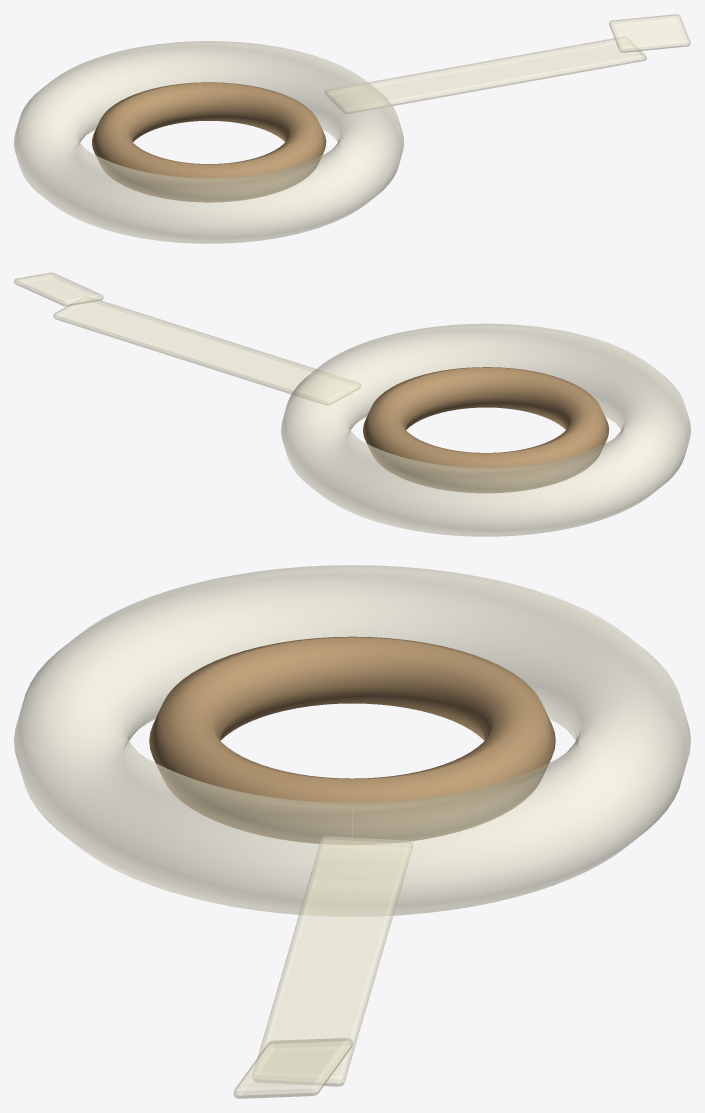
The model's file is tape_roll.glb.
3 views of the same model, one above another, from view 1: azimuth 30°, elevation 25°; view 2: azimuth 150°, elevation 25°; view 3: azimuth 270°, elevation 25° (orthographic). The views are drawn at different scales.
Parts seen in each view (by area): view 1: Tape_Roll_Body, Tape_Roll_Cardboard_Core, Tape_Roll_Loose_End, Tape_Roll_Loose_End_Curl; view 2: Tape_Roll_Body, Tape_Roll_Cardboard_Core, Tape_Roll_Loose_End, Tape_Roll_Loose_End_Curl; view 3: Tape_Roll_Body, Tape_Roll_Cardboard_Core, Tape_Roll_Loose_End, Tape_Roll_Loose_End_Curl.
Boxes of the visible parts, x1,y1,x2,y2 form: Tape_Roll_Body: [14, 41, 403, 243]; Tape_Roll_Cardboard_Core: [92, 82, 326, 202]; Tape_Roll_Loose_End: [325, 36, 646, 113]; Tape_Roll_Loose_End_Curl: [609, 14, 690, 52]; Tape_Roll_Body: [281, 323, 690, 536]; Tape_Roll_Cardboard_Core: [363, 367, 608, 492]; Tape_Roll_Loose_End: [53, 296, 360, 405]; Tape_Roll_Loose_End_Curl: [14, 272, 103, 306]; Tape_Roll_Body: [14, 565, 690, 916]; Tape_Roll_Cardboard_Core: [149, 636, 555, 843]; Tape_Roll_Loose_End: [252, 836, 412, 1086]; Tape_Roll_Loose_End_Curl: [233, 1038, 352, 1098].
Size of the model in its own units: 1.28 by 0.116 by 0.686.
